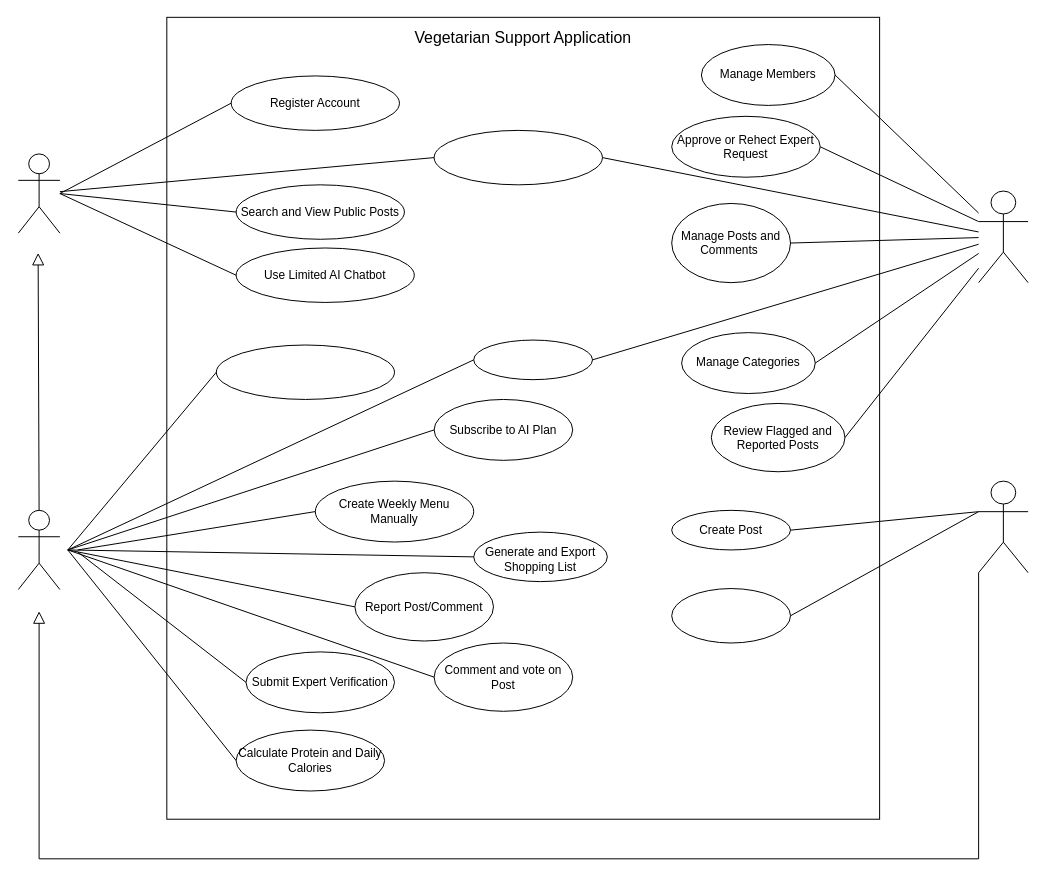
The diagram is 1055 pixels wide and 888 high, and some of its shapes have lost their labels. The shapes that lost their labels are listed below. From the top down, each one's centre as x and y in pixels, then its label:
At (x=517, y=157): "Login".
At (x=38, y=193): "Guest".
At (x=1003, y=236): "Administrator".
At (x=305, y=371): "Manage Personal Information".
At (x=533, y=359): "Logout".
At (x=1003, y=526): "Expert".
At (x=38, y=549): "Member".
At (x=731, y=615): "Manage Own Posts".
